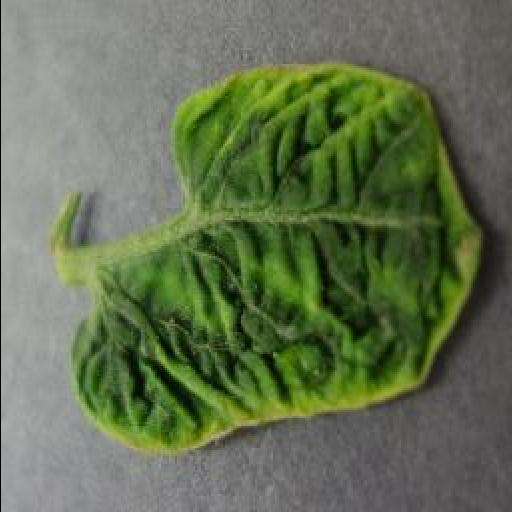disease_tomato: (66, 58, 480, 451)
